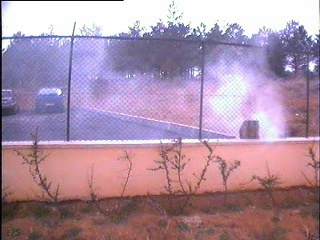smoke: (198, 37, 291, 138)
